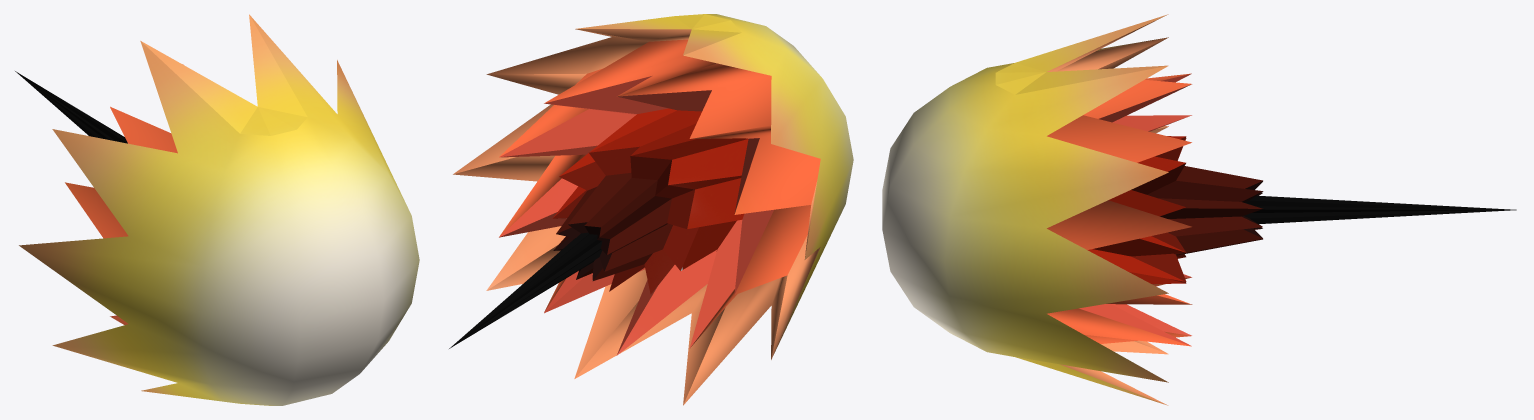
File: Fireball.fbx
3 renders of one model, left to right at view 1: azimuth 30°, elevation 25°; view 2: azimuth 150°, elevation 25°; view 3: azimuth 270°, elevation 25°, orthographic. The views are drawn at different scales.
Visible parts, largest first — view 1: pSphere2; view 2: pSphere2; view 3: pSphere2.
Boxes of the visible parts, box(x1,y1,x2,y2) form: pSphere2: box(15, 14, 419, 405); pSphere2: box(449, 14, 853, 405); pSphere2: box(882, 14, 1516, 405).
Bounding box in the file's own units: 51.92 × 49.38 × 83.78.
